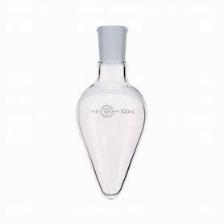Pear shaped flask: (74, 19, 146, 201)
